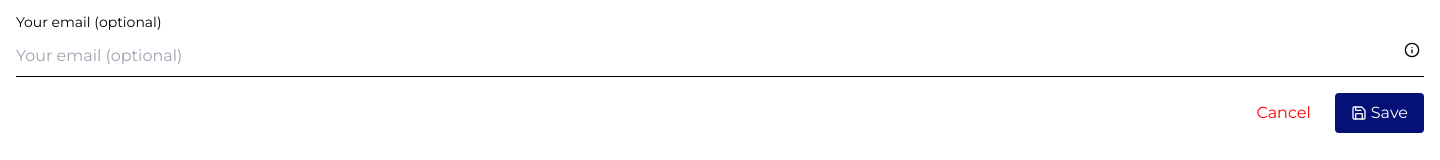
Test: EmailForm() EmailForm method › Happy paths › shows info tooltip when info button is clicked and hides when clicked again
The image size is (1440, 160).
Click the button named "information": (1412,50) [1404,42,1420,58]
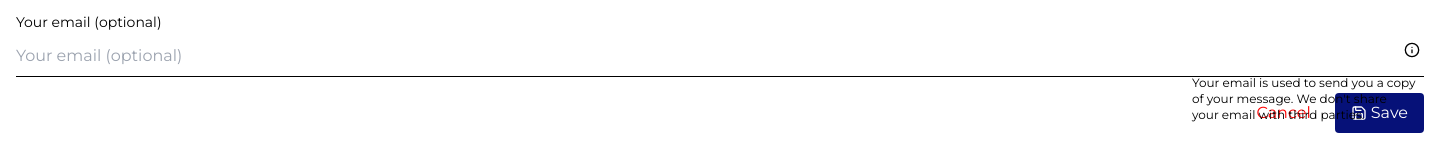
Check: the text "Your email is used to send you a copy of your message" is shown, box [1192,75,1416,122]
Click the button named "information": (1412,50) [1404,42,1420,58]
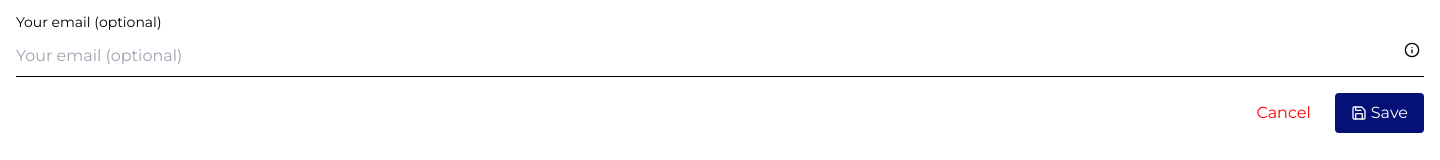
Check: the text "Your email is used to send you a copy of your message" is gone
